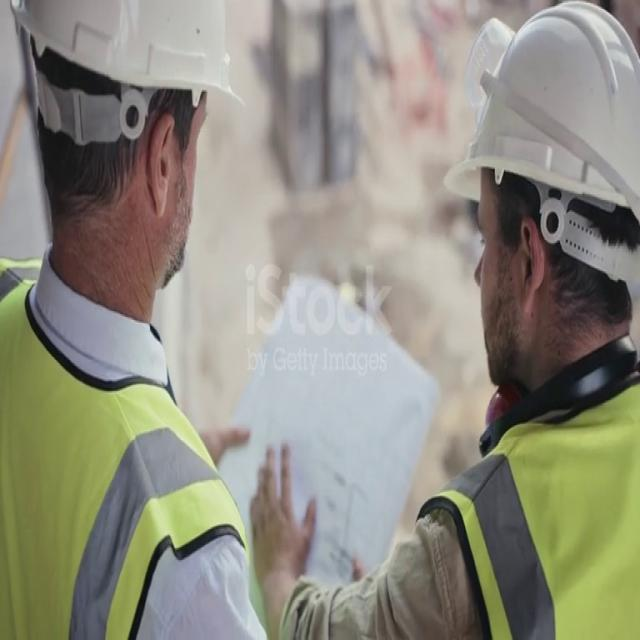capacete: (414, 10, 640, 240), (2, 2, 256, 205)
